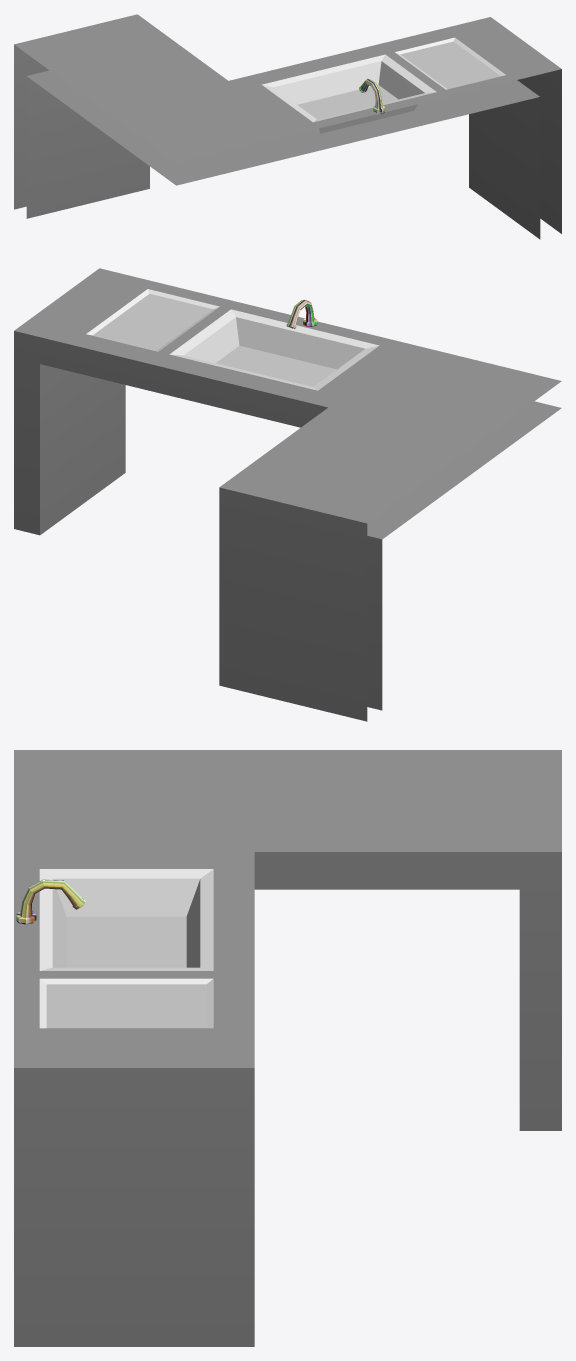
The model's file is WastafelKantin.fbx.
3 views of the same model, one above another, from view 1: azimuth 30°, elevation 25°; view 2: azimuth 150°, elevation 25°; view 3: azimuth 270°, elevation 25° (orthographic). The views are drawn at different scales.
Visible parts, largest first — view 1: WastafelKantin_LOD0; view 2: WastafelKantin_LOD0; view 3: WastafelKantin_LOD0.
Boxes of the visible parts, x1,y1,x2,y2 form: WastafelKantin_LOD0: (14,14,561,239); WastafelKantin_LOD0: (14,268,561,721); WastafelKantin_LOD0: (14,750,561,1346).
Size of what is drawn, in the model's own units: 245 by 114 by 178.
